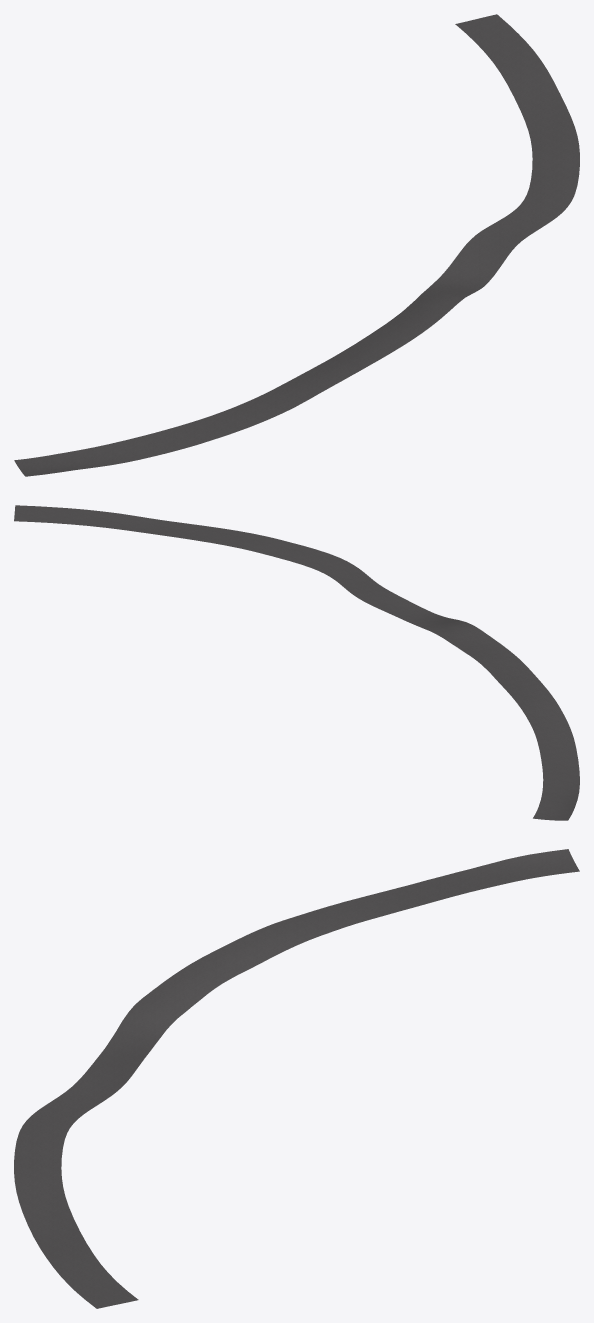
Rendered from road_01.glb.
The picture shows the model from 3 angles, top to bottom: view 1: azimuth 90°, elevation 25°; view 2: azimuth 150°, elevation 25°; view 3: azimuth 270°, elevation 25°; orthographic projection. The views are drawn at different scales.
Visible parts, largest first — view 1: road_01.surface; view 2: road_01.surface; view 3: road_01.surface.
Boxes of the visible parts, <box> form: road_01.surface: <box>14,14,579,476</box>; road_01.surface: <box>14,505,579,820</box>; road_01.surface: <box>14,849,579,1308</box>.
Size of the model in its own units: 161 by 2.13 by 83.33.
1 material, 1 textured.
